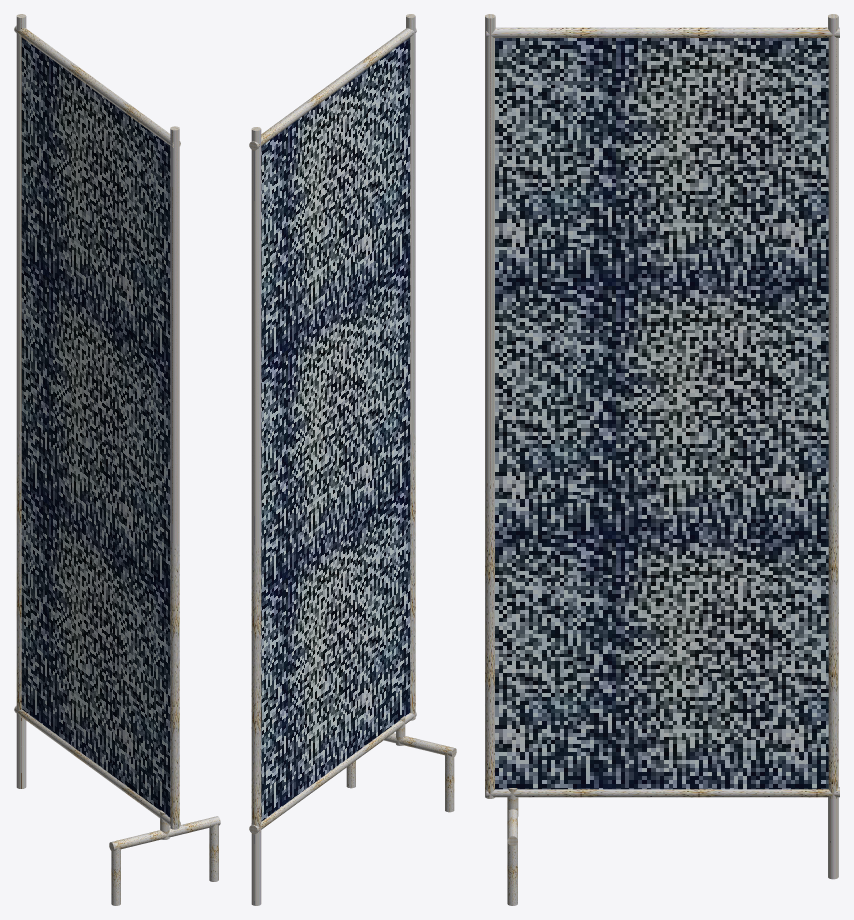
Rendered from clean_shirma.glb.
The picture shows the model from 3 angles, left to right: view 1: azimuth 30°, elevation 25°; view 2: azimuth 150°, elevation 25°; view 3: azimuth 270°, elevation 25°; orthographic projection. The views are drawn at different scales.
Visible parts, largest first — view 1: Куб; view 2: Куб; view 3: Куб.
Part boxes in pixels (x1,y1,x2,y2): Куб: (14,14,220,905); Куб: (249,14,456,905); Куб: (485,14,839,905).
Bounding box in the file's own units: 0.3951 × 2.73 × 1.02.
2 materials, 2 textured.
